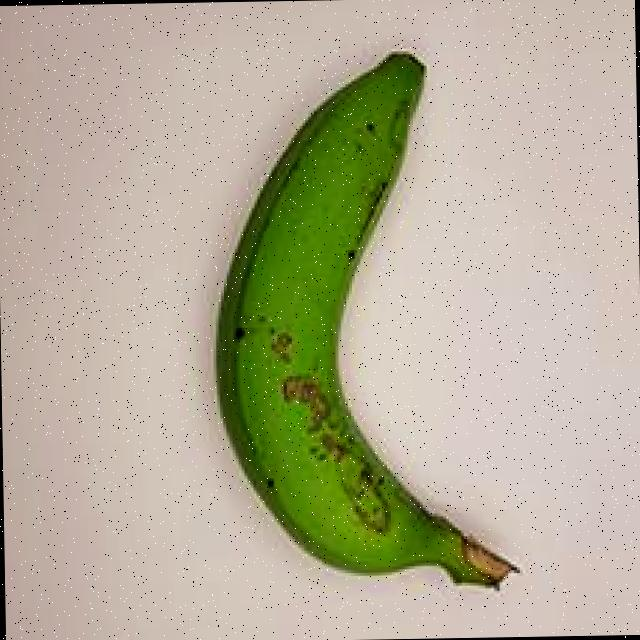Raw: (187, 19, 548, 628)
